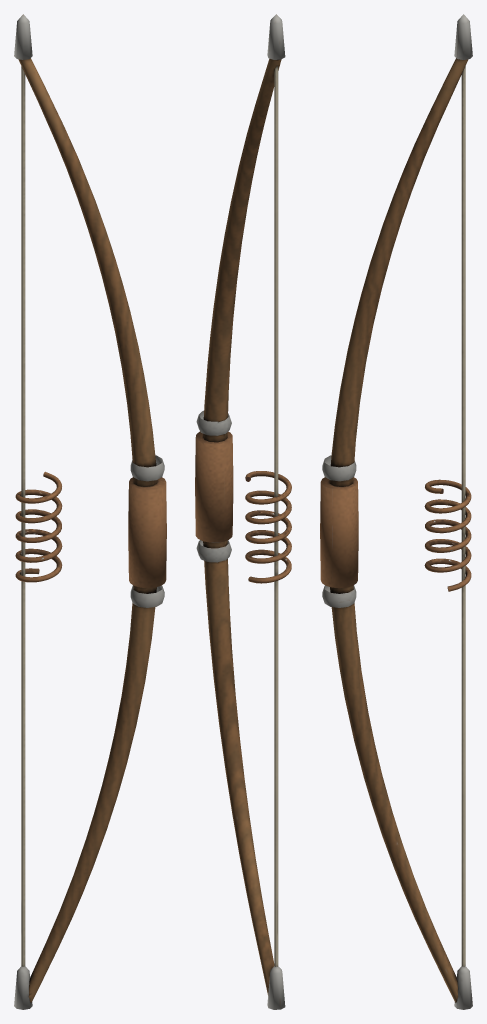
The model's file is arma_arco_longo_comum.glb.
3 views of the same model, side by side, from view 1: azimuth 90°, elevation 25°; view 2: azimuth 210°, elevation 25°; view 3: azimuth 270°, elevation 25° (orthographic).
Parts seen in each view (by area): view 1: arma_arco_longo_comum; view 2: arma_arco_longo_comum; view 3: arma_arco_longo_comum.
Part boxes in pixels (bbox=[...]): arma_arco_longo_comum: bbox=[14, 14, 166, 1009]; arma_arco_longo_comum: bbox=[195, 14, 291, 1009]; arma_arco_longo_comum: bbox=[320, 14, 472, 1009].
Size of the model in its own units: 0.0606 by 1.41 by 0.197.
1 material, 1 textured.
